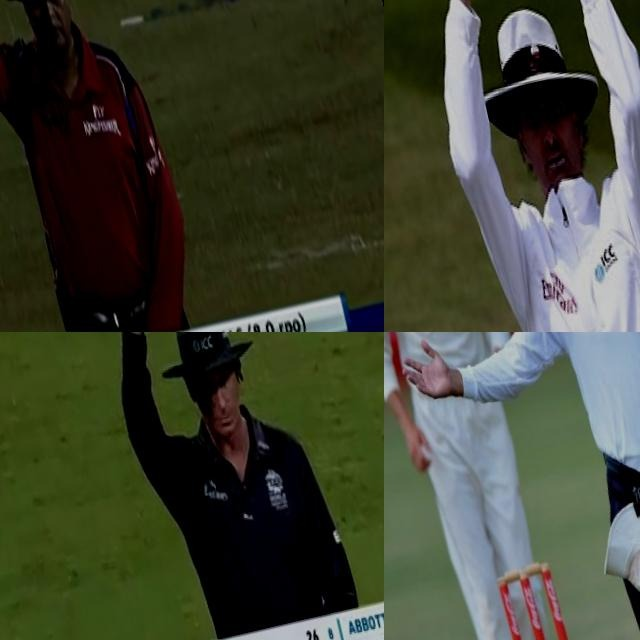Out: (78, 332, 365, 640), (0, 0, 215, 332)
Six: (386, 0, 640, 332)
Wide: (384, 332, 640, 524)
